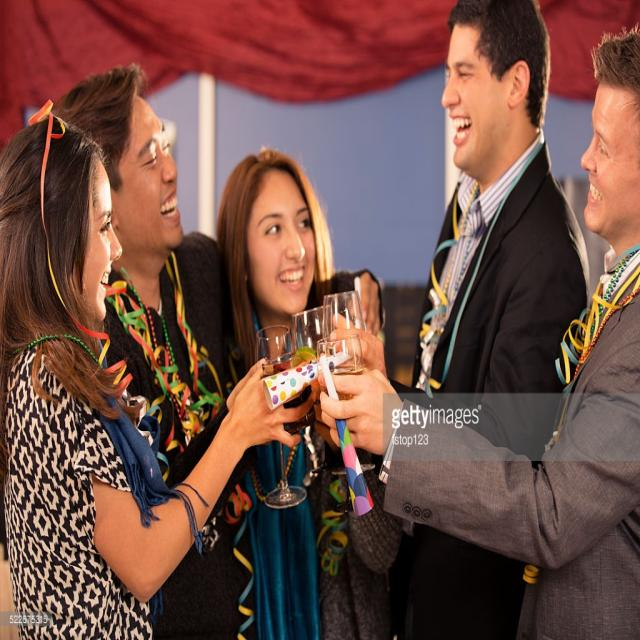body: (315, 22, 639, 639), (57, 64, 386, 640), (322, 0, 589, 639), (0, 110, 304, 640), (192, 145, 387, 639)
